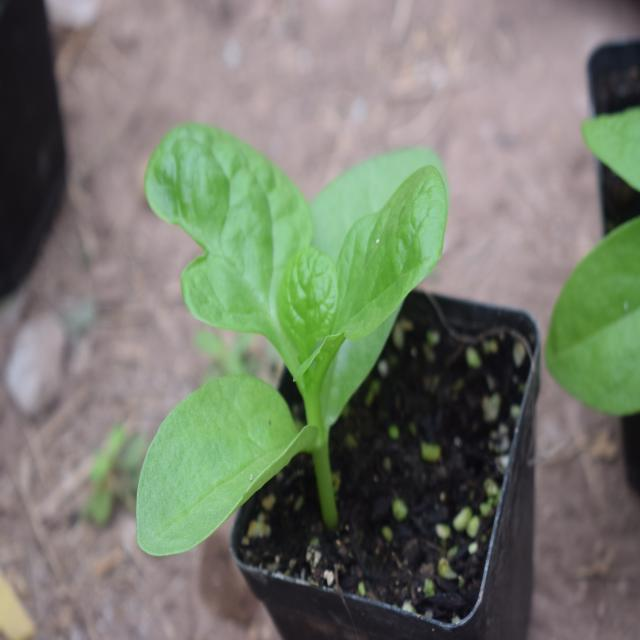Ceylon spinach: (132, 149, 448, 509)
